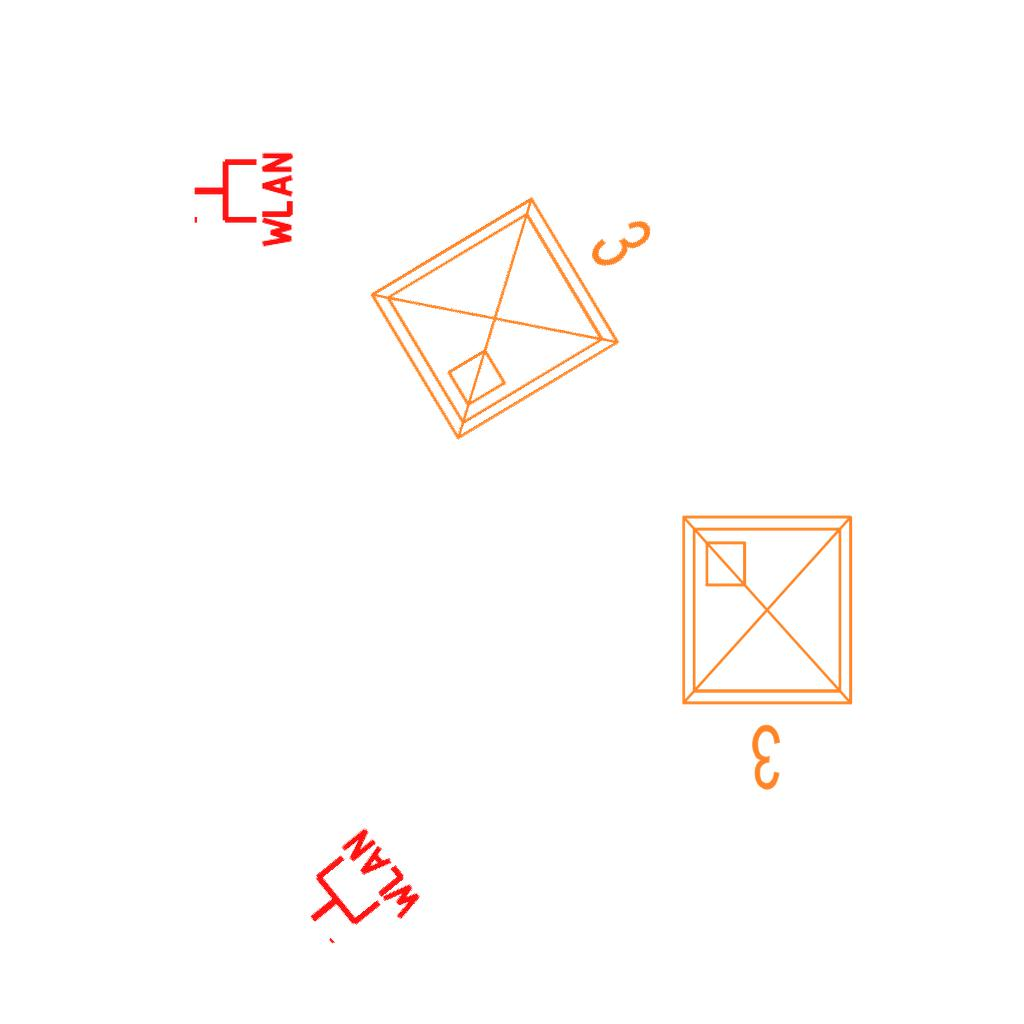Einbaudownlights_LED_Konferenzraeume: (345, 127, 711, 461), (667, 501, 875, 801)
WLAN: (281, 822, 430, 970), (190, 148, 295, 252)
